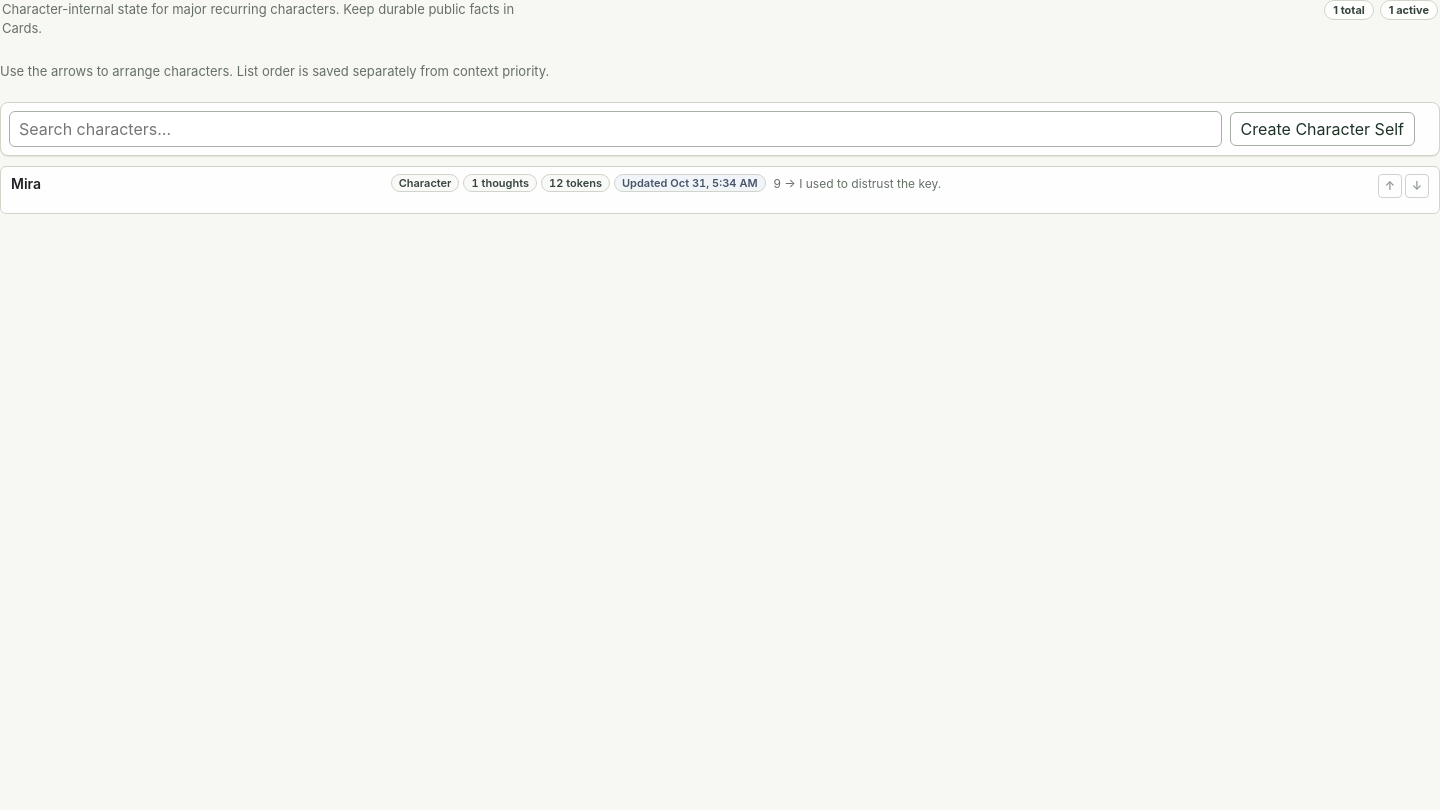
Test case: shows the actual Update Now thought after collapsing, with approval status preserved: review=true
Click the heading: (720, 186) [1,167,1439,205]
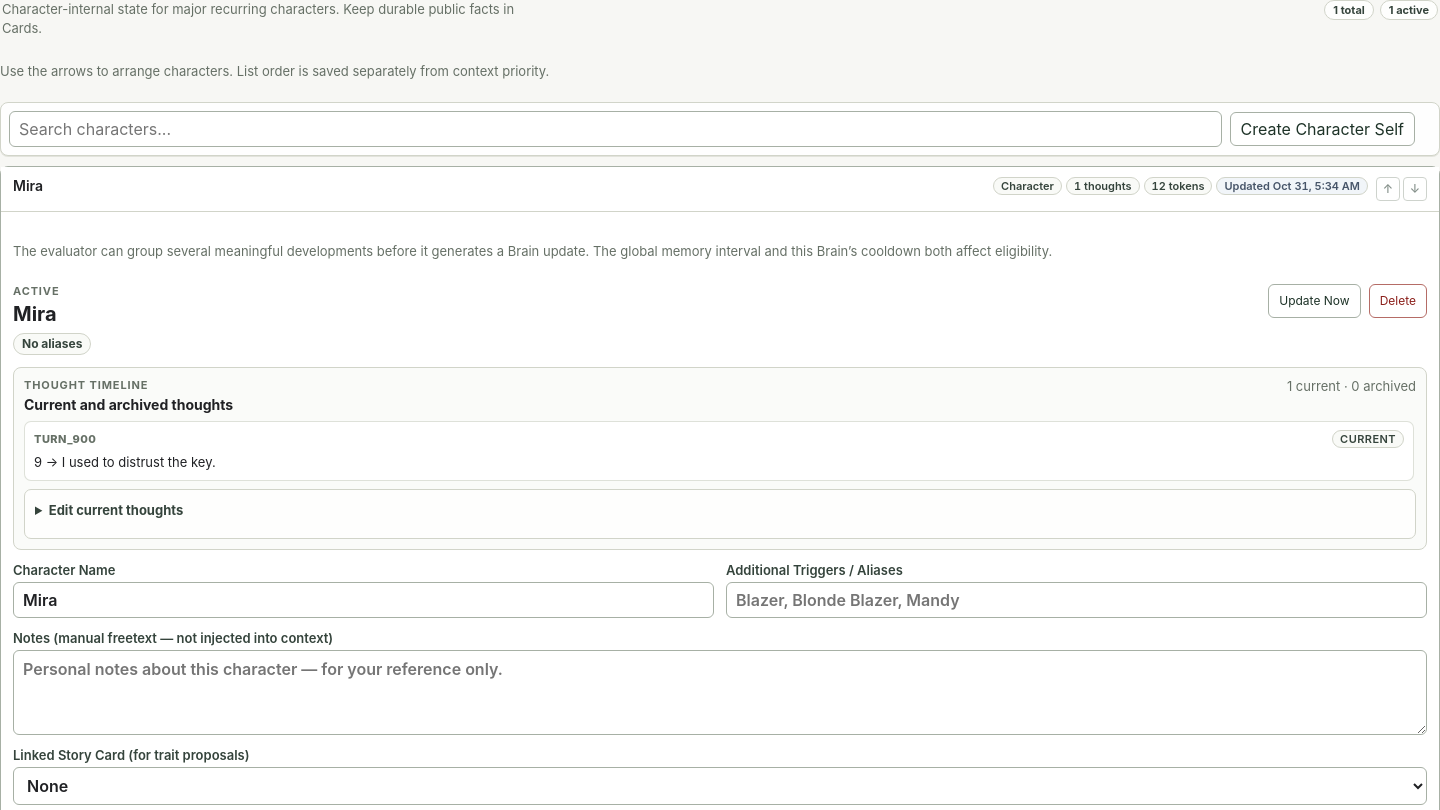
Click the button "Update Now": (1314, 301) [1268,284,1361,318]
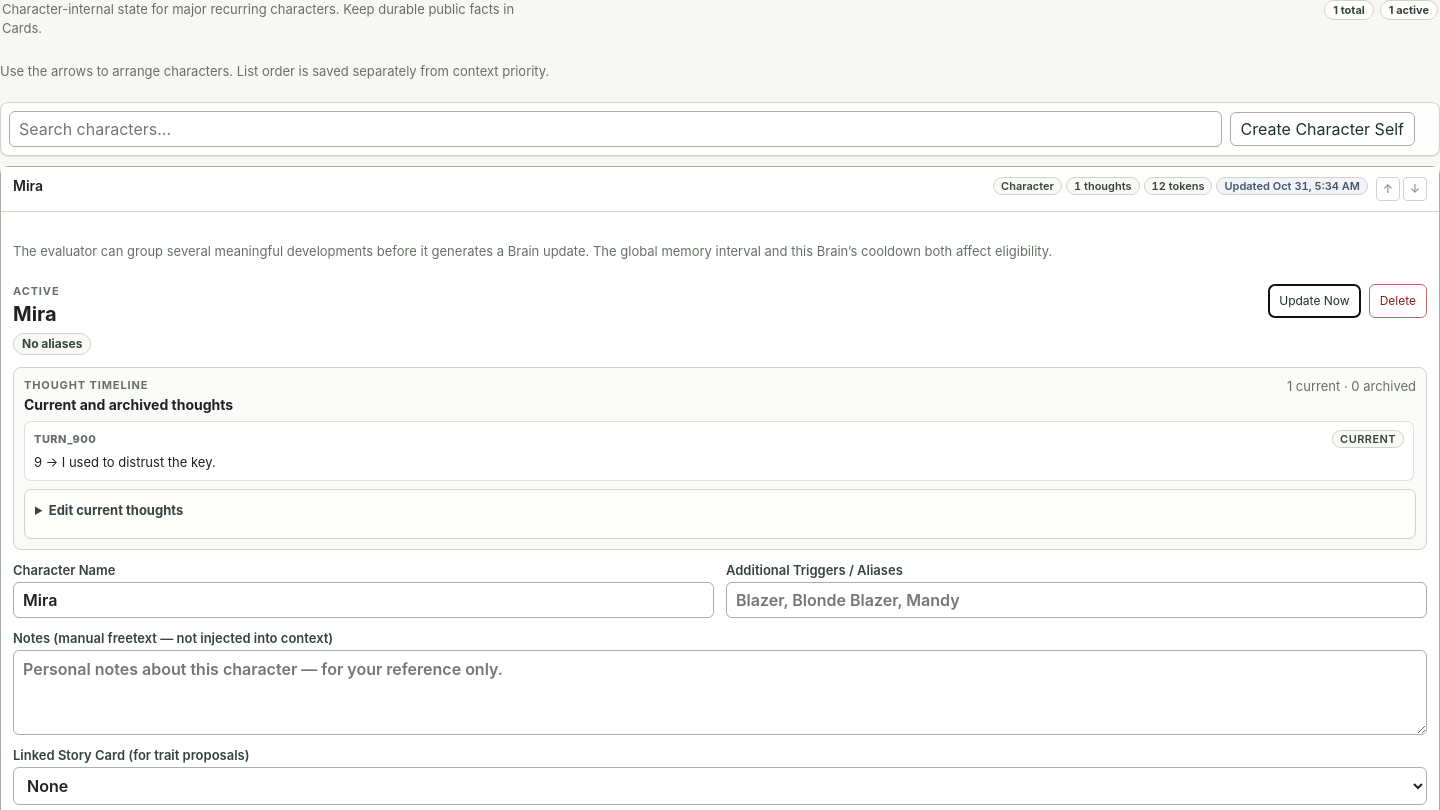
Click the 1st heading: (28, 186) [1,167,1439,212]
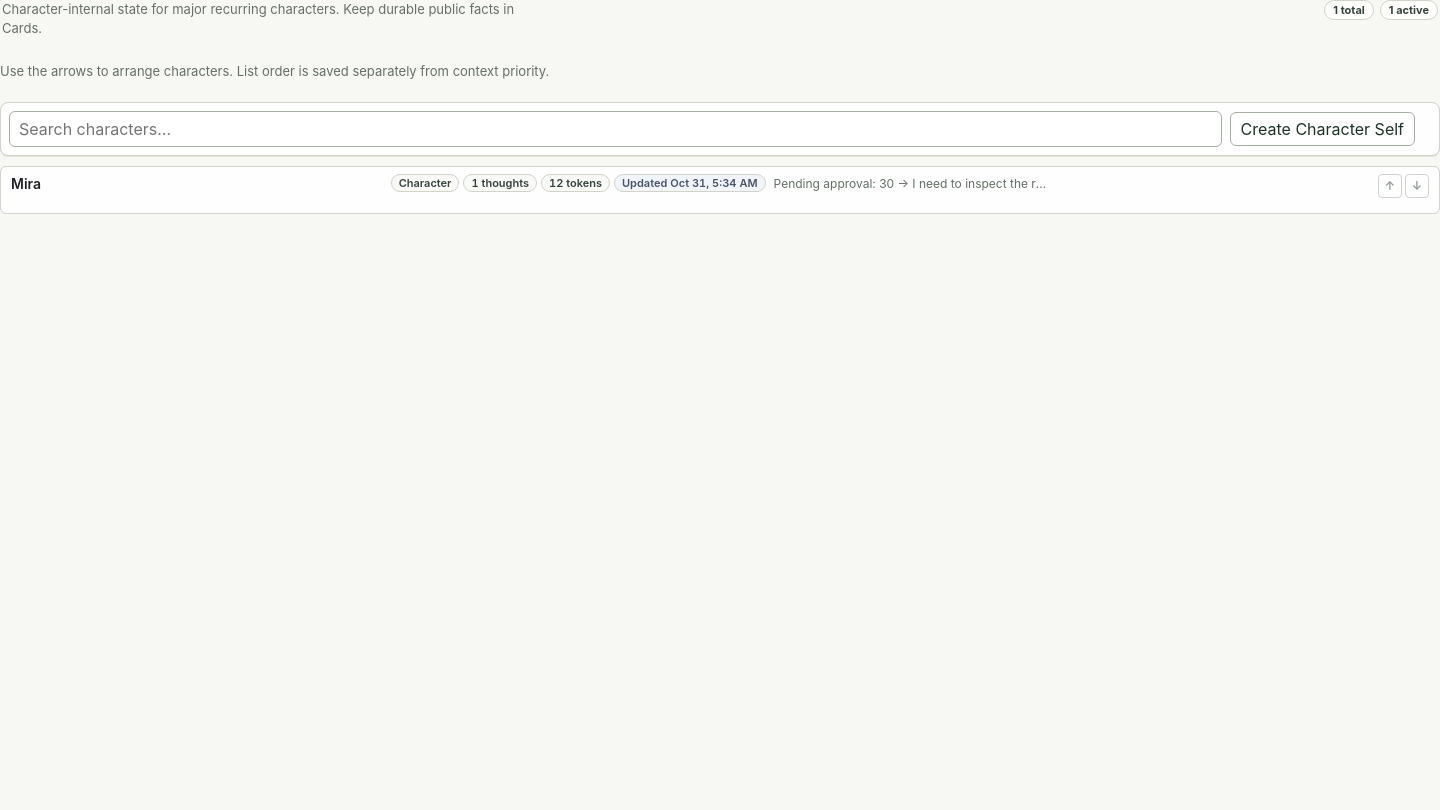
Expected: the text titled "30 → I need to inspect the recovered ward myself." is shown, [879,176,1164,191]
Expected: the text titled "30 → I need to inspect the recovered ward myself." shows "Pending approval:", [774,176,879,191]
